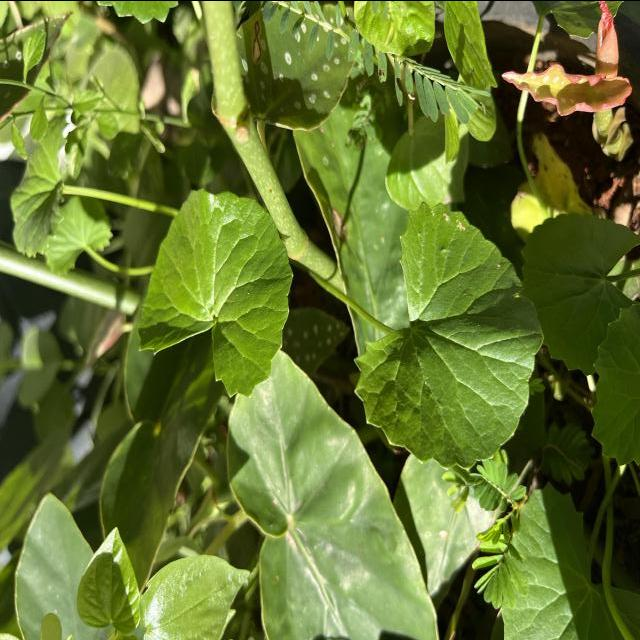Centella asiatica: (348, 196, 546, 471), (134, 183, 296, 400)
